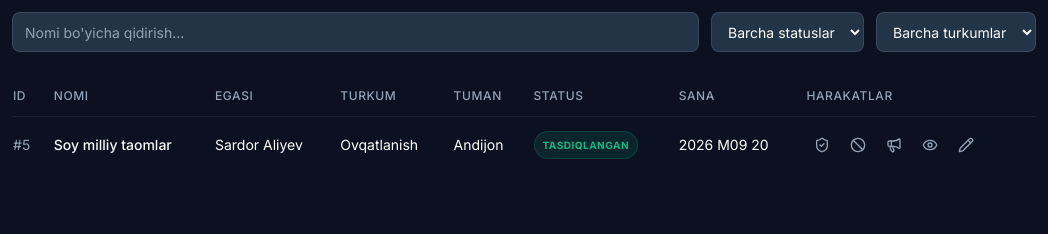
AdminBusinessesView — business operations › verifies an approved business, reports success and reloads
Expected: the text "Soy milliy taomlar" is shown, [54,136,172,153]
Click the button named "Verifikatsiya qilish".
click(822, 145)  # box [806,129,838,161]
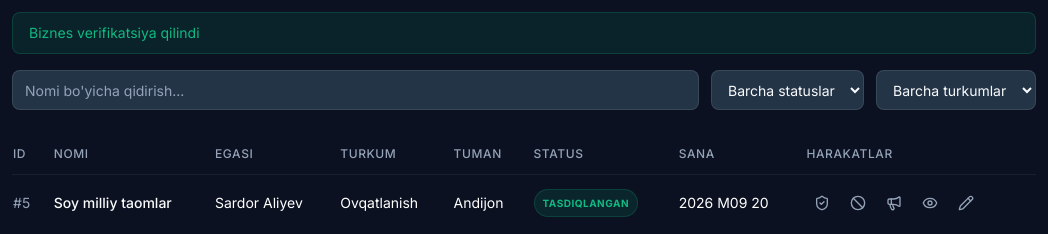
Expected: the text "Biznes verifikatsiya qilindi" is shown, [12,12,1036,54]
